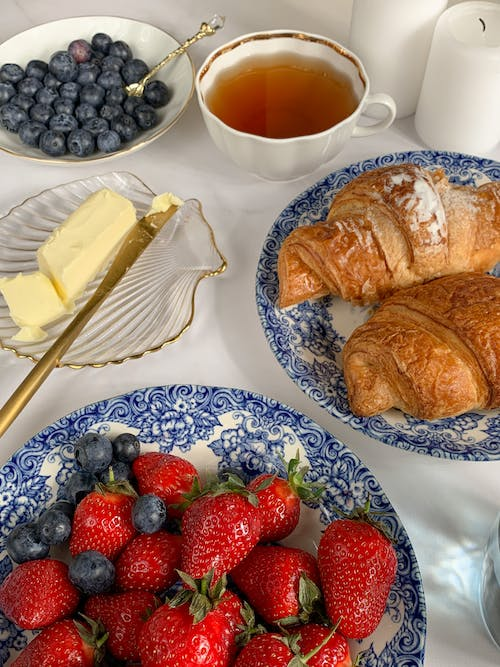knife: (0, 200, 178, 447)
